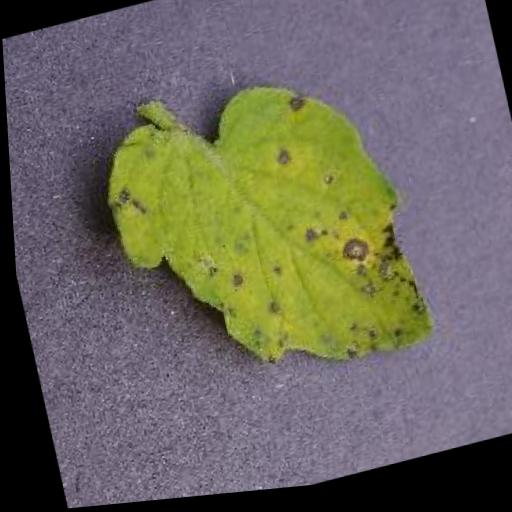Septoria: (85, 60, 438, 418)
